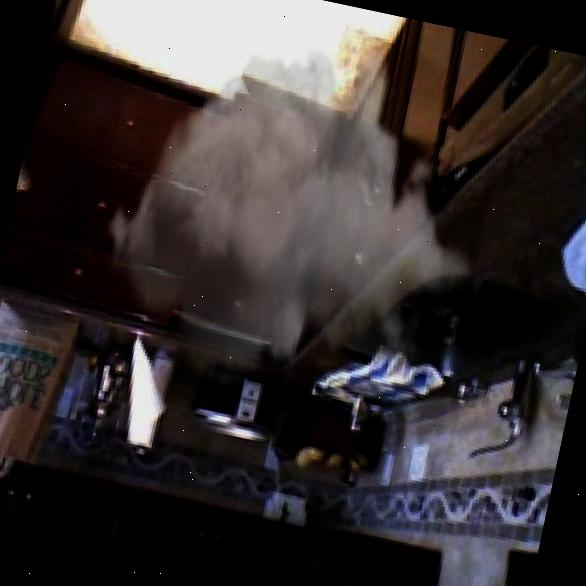smoke: (72, 0, 514, 444)
